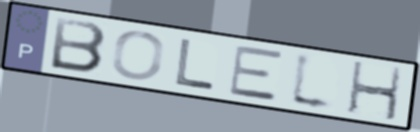B: (48, 15, 109, 76)
E: (227, 44, 285, 104)
H: (345, 60, 405, 124)
L: (287, 49, 339, 116), (174, 36, 218, 93)
O: (109, 29, 168, 82)
